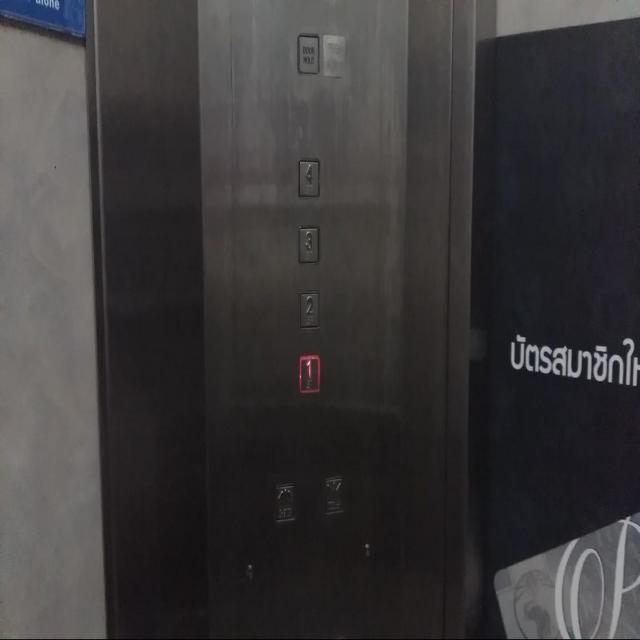1: (295, 349, 323, 398)
2: (295, 285, 323, 334)
3: (294, 220, 322, 268)
4: (294, 153, 322, 202)
close: (320, 469, 348, 518)
open: (270, 478, 298, 526)
text: (293, 26, 323, 81), (320, 28, 350, 82)
